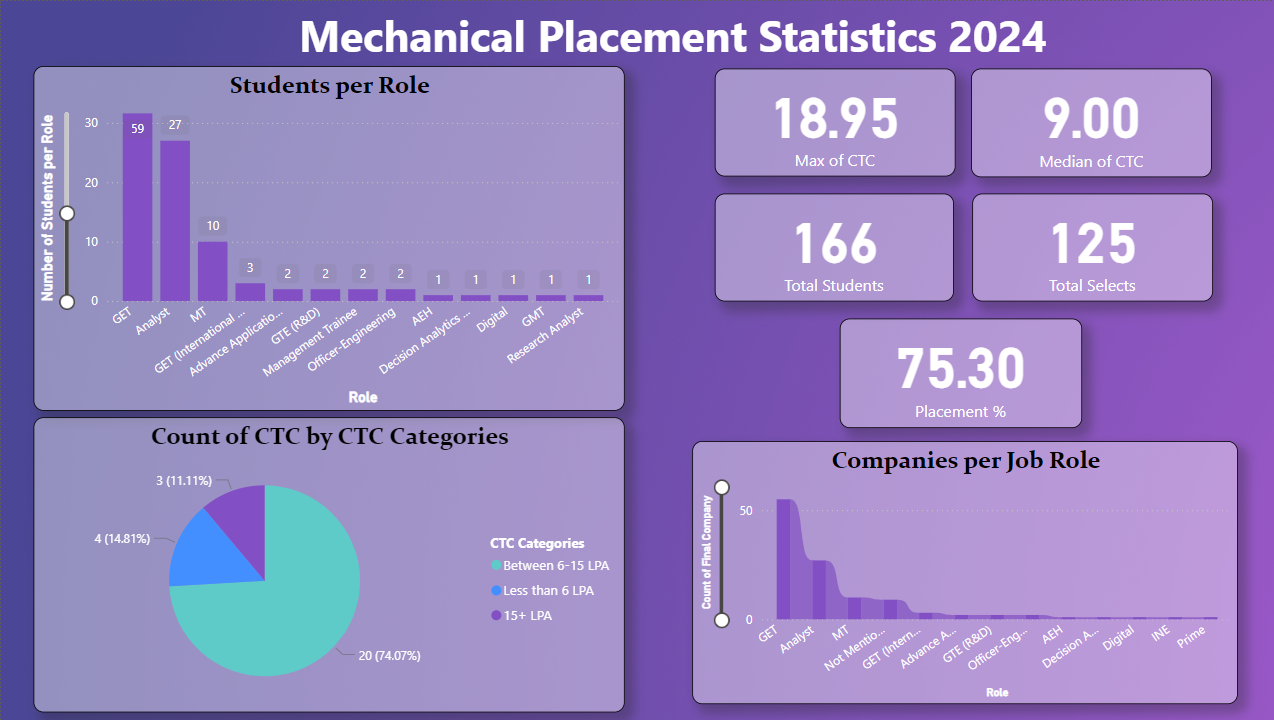

The dashboard page shown, as its layout file describes it:
{"tool":"powerbi","page":{"name":"Page 1","canvas":[1280,720],"ordinal":0},"visuals":[{"type":"clusteredColumnChart","title":"Students per Role","fields":{"Y":["Sheet1.Number of Students per Role"],"Category":["Sheet1.Role"]},"box":[32.7,64.9,591.1,345.1],"z":0},{"type":"card","fields":{"Values":["Max(Sheet1.CTC)"]},"box":[714.3,67.3,240.9,108.3],"z":1000},{"type":"card","fields":{"Values":["Median(Sheet1.CTC)"]},"box":[970.4,67.3,241.1,108.9],"z":2000},{"type":"card","fields":{"Values":["Sheet1.Total Selects"]},"box":[970.9,192.7,240.9,108.3],"z":3000},{"type":"card","fields":{"Values":["Sheet1.Placement %"]},"box":[839,317.6,242,109.3],"z":4000},{"type":"card","fields":{"Values":["Sheet1.Total Students"]},"box":[714.3,192.7,239.5,108.3],"z":5000},{"type":"pieChart","fields":{"Category":["Sheet1.CTC Categories"],"Y":["Count(Sheet1.CTC)"]},"box":[32.7,416.1,591.1,294.9],"z":6000},{"type":"ribbonChart","title":"Companies per Job Role","fields":{"Category":["Sheet1.Role"],"Y":["CountNonNull(Sheet1.Final Company)"]},"box":[690.9,439.4,545.9,263.3],"z":7000},{"type":"textbox","box":[0,0,1280,67.3],"z":8000}]}

Visuals, with their boxes in screenshot pixels (x1, y1, x2, y2), scaled from the page's 1280x720 canvas onto the 1274x720 screenshot:
"Students per Role" clusteredColumnChart: bbox=[33, 65, 621, 410]
card - Max(Sheet1.CTC): bbox=[711, 67, 951, 176]
card - Median(Sheet1.CTC): bbox=[966, 67, 1206, 176]
card - Sheet1.Total Selects: bbox=[966, 193, 1206, 301]
card - Sheet1.Placement %: bbox=[835, 318, 1076, 427]
card - Sheet1.Total Students: bbox=[711, 193, 949, 301]
pieChart - Sheet1.CTC Categories x Count(Sheet1.CTC): bbox=[33, 416, 621, 711]
"Companies per Job Role" ribbonChart: bbox=[688, 439, 1231, 703]
textbox: bbox=[0, 0, 1273, 67]
